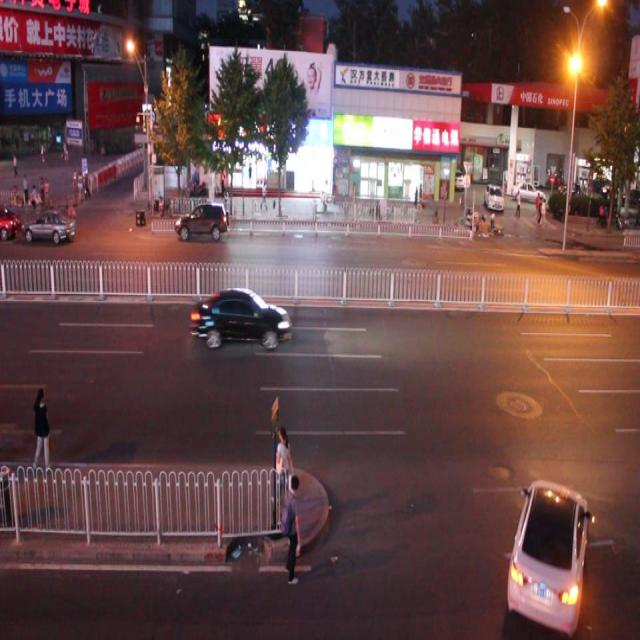car: (505, 475, 588, 632), (191, 286, 290, 350), (174, 198, 228, 242), (23, 206, 77, 247)
